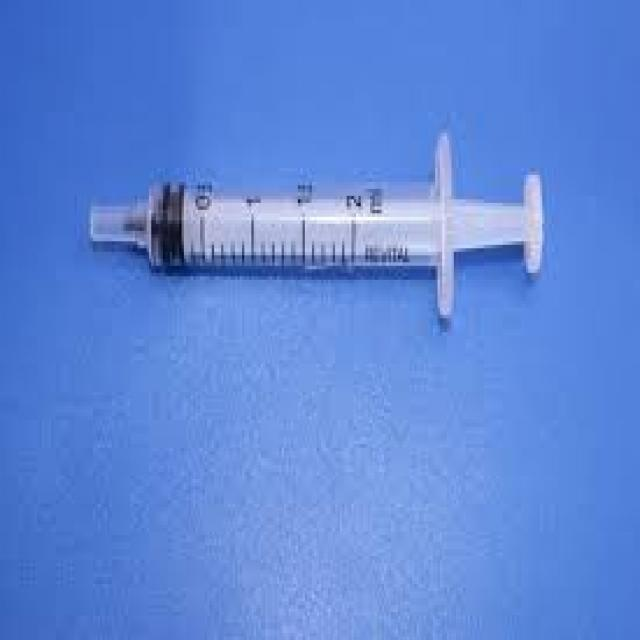syringe: (62, 131, 575, 369)
